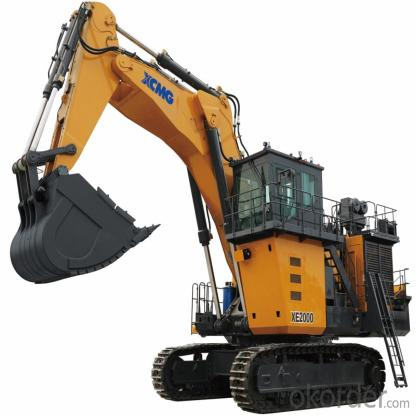excavator: (1, 3, 416, 415)
